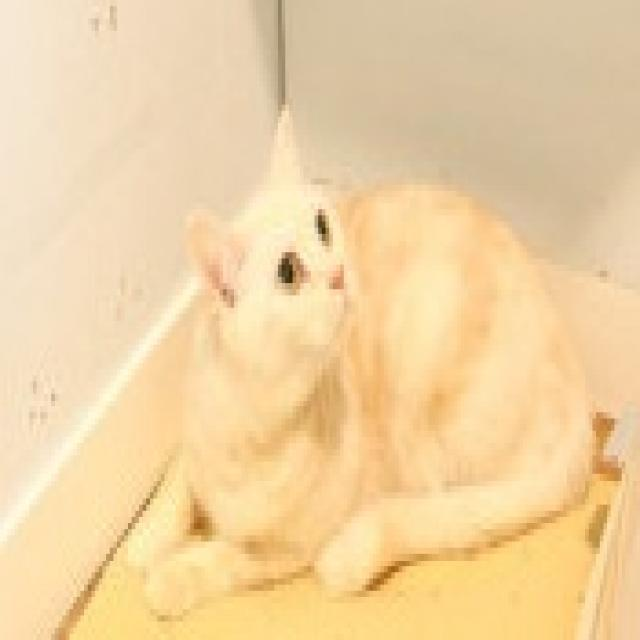cat: (126, 105, 604, 618)
